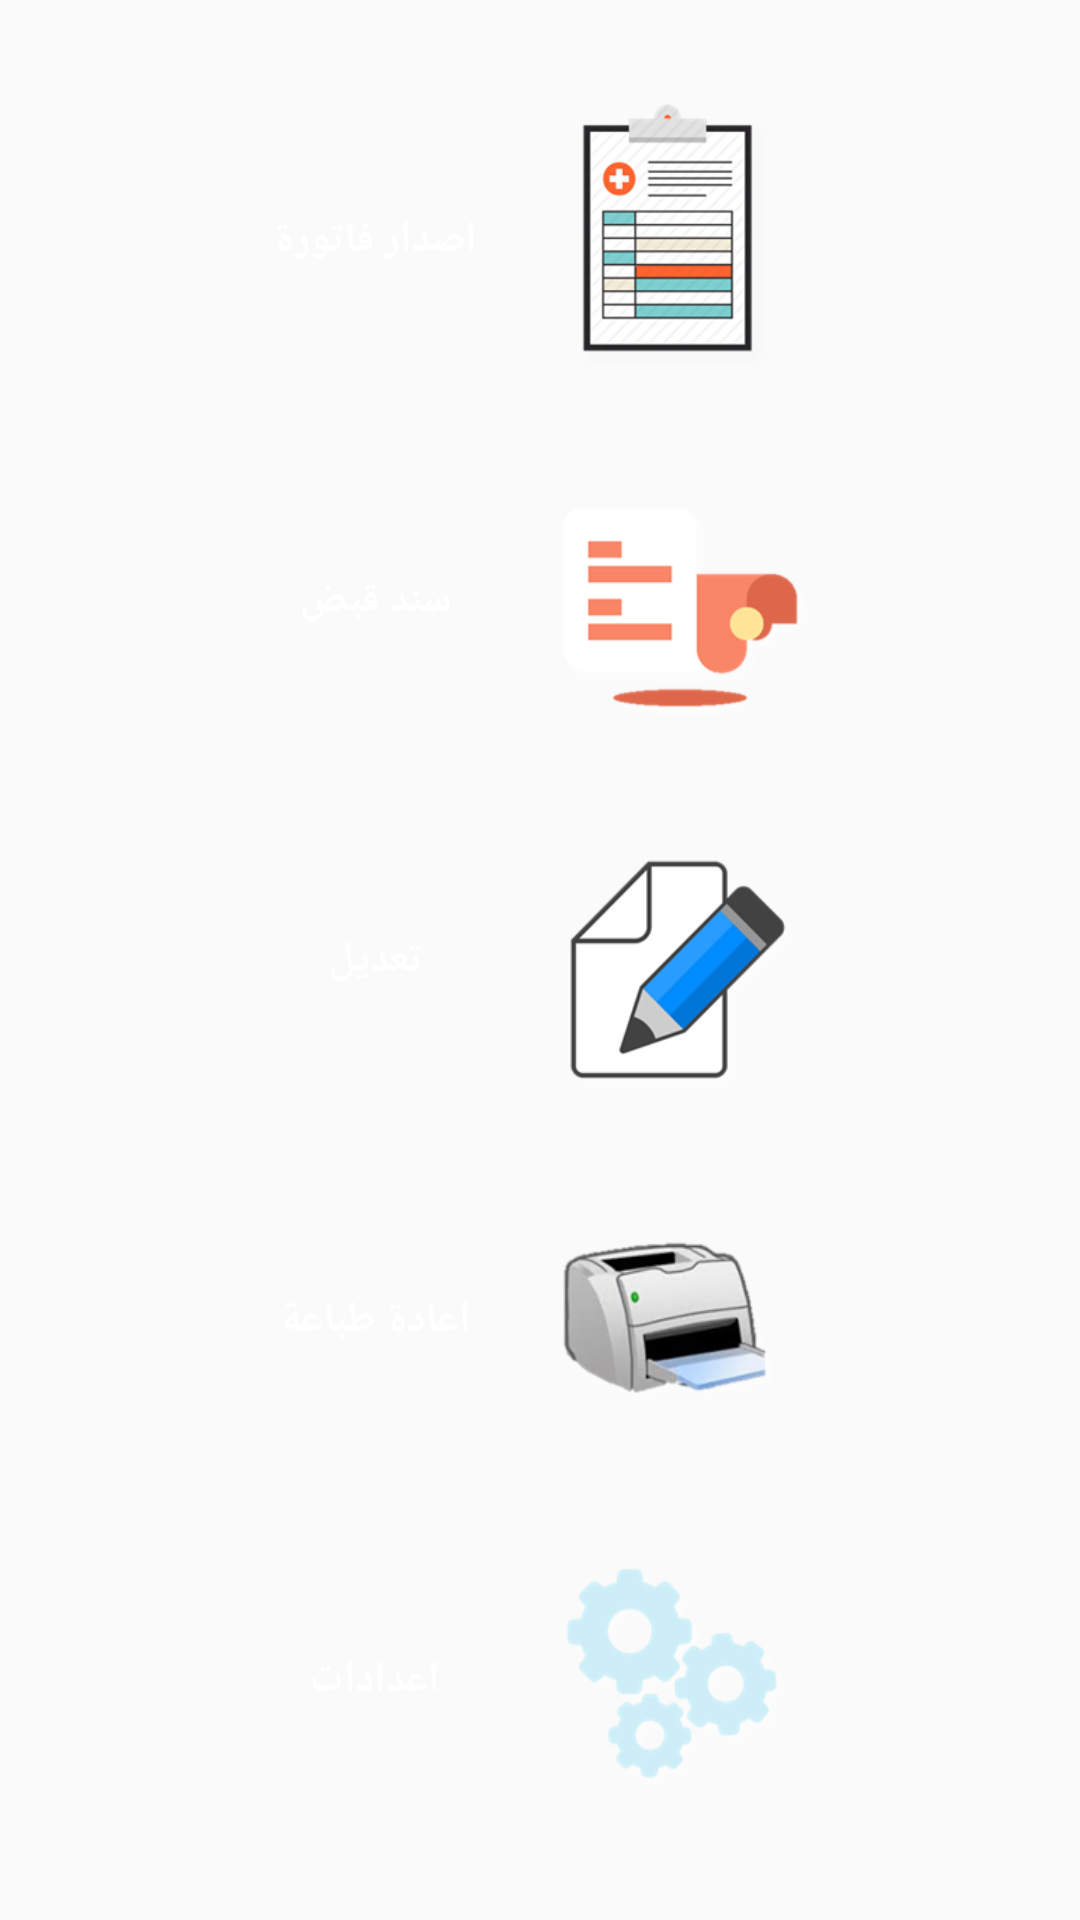

Screen size 1080px×1920px. Icon name, then its center in pixels as [x,y]:
printer: [665,1318]
setting: [672,1673]
